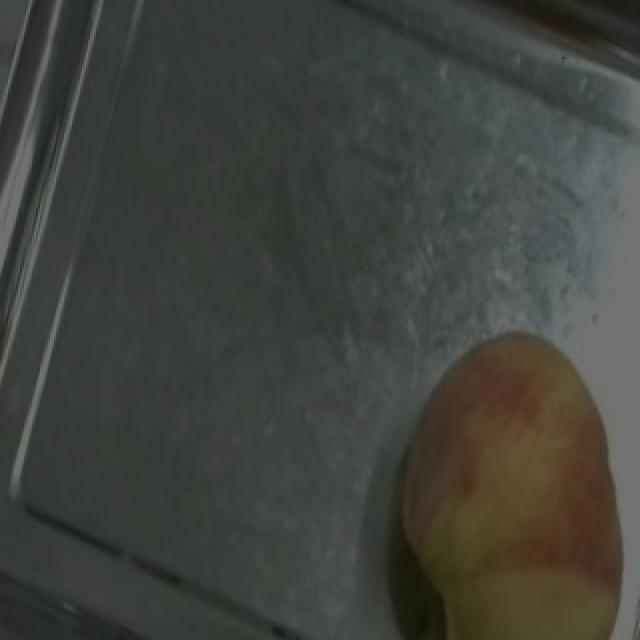Fruit: (354, 315, 640, 640)
